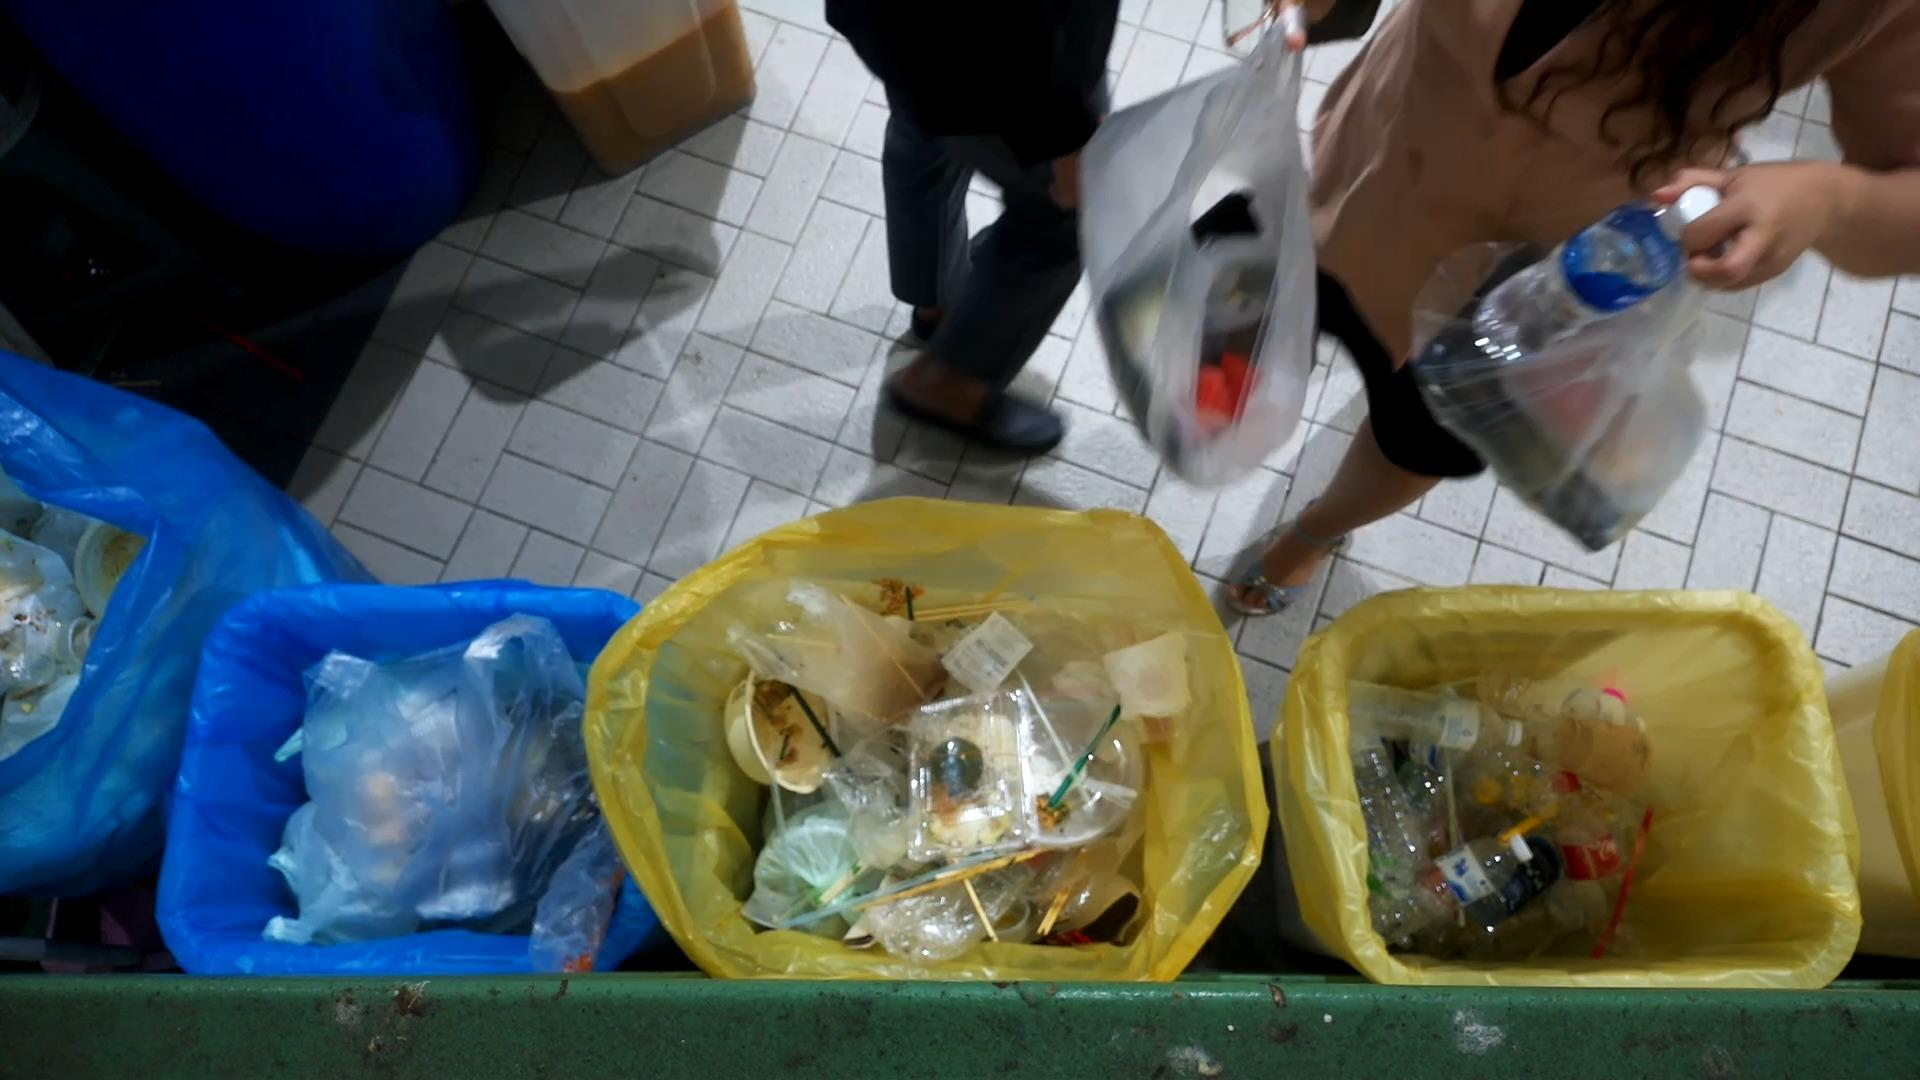dirty food container: (909, 687, 1040, 858), (720, 653, 825, 795)
filled plastic bag: (1068, 15, 1332, 516), (1398, 178, 1738, 563), (305, 615, 617, 915), (728, 563, 955, 725), (737, 808, 899, 967), (851, 868, 1017, 967)
food container: (1017, 688, 1147, 852)
plastic bag: (501, 825, 632, 988)
plastic bottle: (1451, 178, 1722, 375), (1364, 837, 1536, 961), (1336, 732, 1436, 874), (1549, 765, 1629, 932)
plastic cup: (1095, 597, 1228, 735)
plastic cutlery: (1050, 762, 1138, 807)
sticks: (844, 848, 1048, 919), (943, 844, 1014, 944), (889, 593, 1044, 628), (1036, 876, 1076, 943)
straw: (1582, 783, 1687, 955), (1038, 649, 1167, 765), (1350, 678, 1530, 749), (1021, 674, 1106, 808), (1423, 700, 1482, 862), (1040, 704, 1120, 814), (766, 669, 844, 769)
